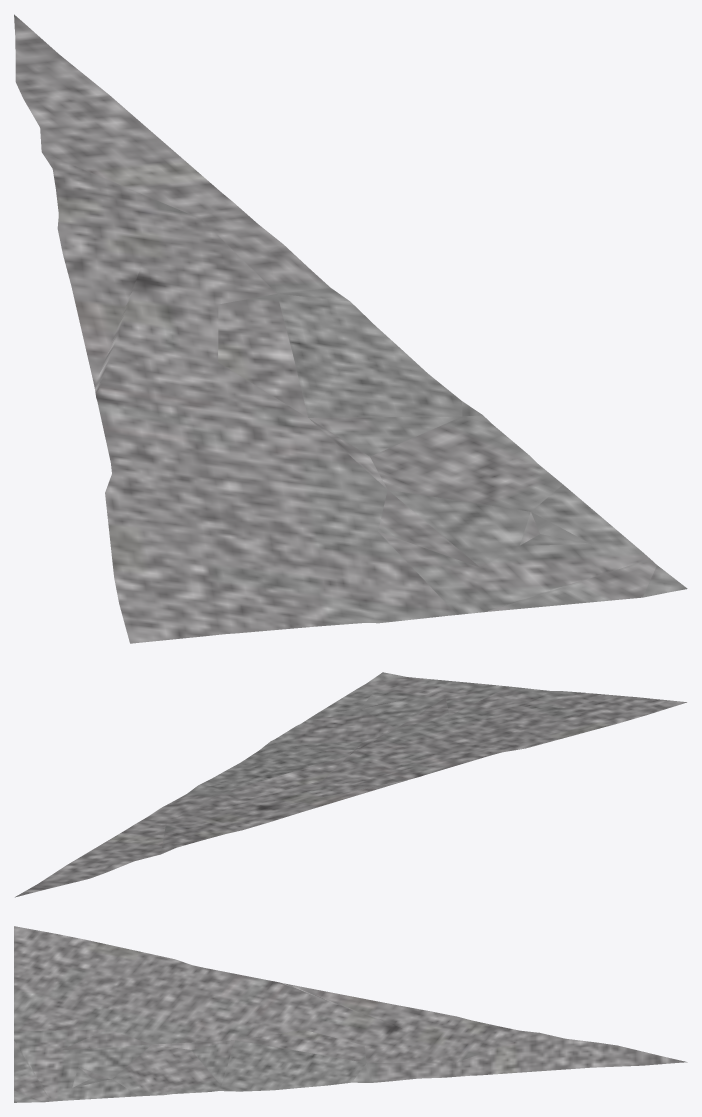
3 views of the same model, one above another, from view 1: azimuth 30°, elevation 25°; view 2: azimuth 150°, elevation 25°; view 3: azimuth 270°, elevation 25° (orthographic). The views are drawn at different scales.
Bounding box in the file's own units: 0.5954 × 0.083 × 1.25.
Materials: 1 (1 with a texture image).
